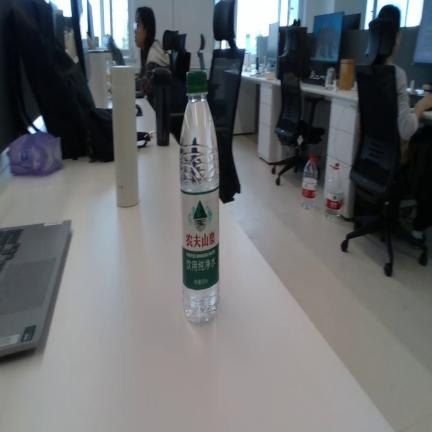bottle: (179, 70, 219, 323), (325, 163, 343, 219), (301, 155, 318, 210)
